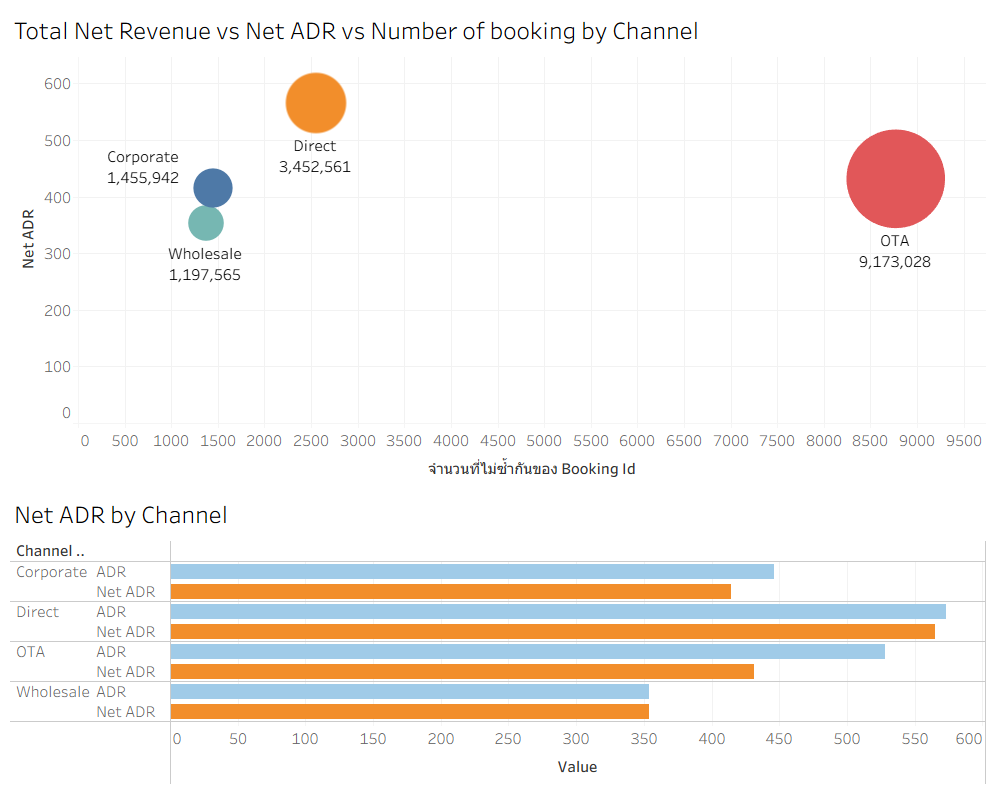

The page's visual inventory and layout, read from the dashboard file:
{"tool":"tableau","page":{"name":"Hypothesis 1","canvas":[1000,800],"ordinal":0},"visuals":[{"type":"worksheet","title":"Hypo1.3.2","mark":"Circle","rows":["Calculation_1451143027654658"],"cols":["booking_id"],"box":[8,8,984,484]},{"type":"worksheet","title":"Hypo1.1 + 1.2","mark":"Automatic","rows":["channel_type"],"box":[8,492,984,300]}]}

Visuals, with their boxes in screenshot pixels (x1, y1, x2, y2), scaled from the page's 1000x800 canvas onto the 997x797 screenshot:
"Hypo1.3.2" worksheet (Circle marks): rect(8, 8, 989, 490)
"Hypo1.1 + 1.2" worksheet: rect(8, 490, 989, 789)
